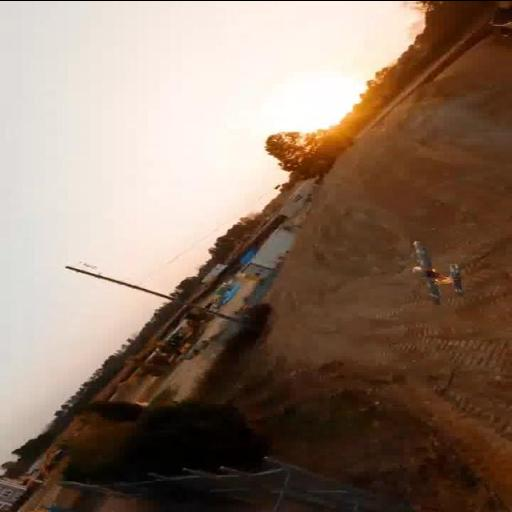uav: (398, 236, 472, 306)
